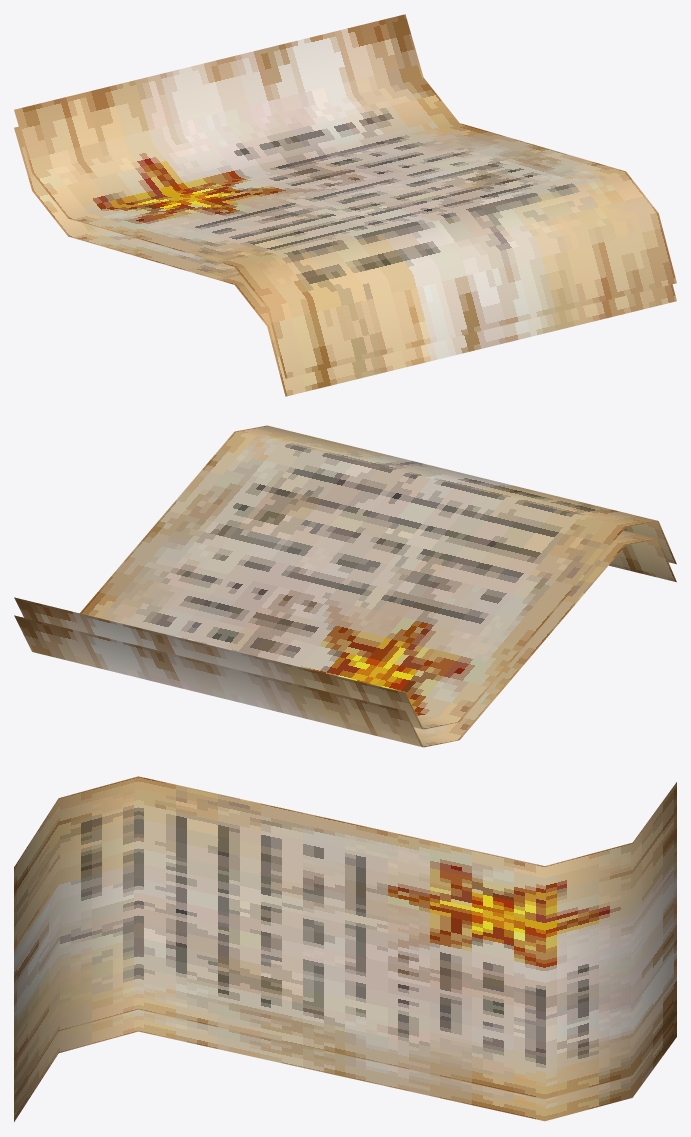
Rendered from mg_mantra.glb.
The picture shows the model from 3 angles, top to bottom: view 1: azimuth 30°, elevation 25°; view 2: azimuth 150°, elevation 25°; view 3: azimuth 270°, elevation 25°; orthographic projection. The views are drawn at different scales.
Visible parts, largest first — view 1: mg_mantra-col; view 2: mg_mantra-col; view 3: mg_mantra-col.
Boxes of the visible parts, x1=… form: mg_mantra-col: x1=14, y1=14, x2=676, y2=396; mg_mantra-col: x1=14, y1=425, x2=676, y2=747; mg_mantra-col: x1=14, y1=776, x2=676, y2=1121.
Size of the model in its own units: 0.333 by 0.0752 by 0.4.
Materials: 2 (2 with a texture image).
